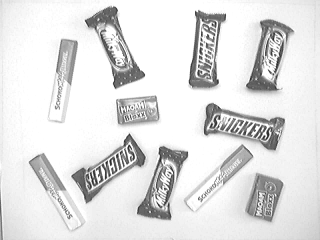Maoam: (243, 172, 285, 224), (114, 95, 163, 126)
Milkyway: (84, 4, 147, 89), (136, 145, 189, 222), (245, 18, 295, 93)
Riegel: (182, 142, 255, 216), (28, 153, 87, 233), (45, 37, 79, 125)
Snickers: (70, 131, 149, 206), (202, 102, 287, 152), (188, 7, 228, 93)
